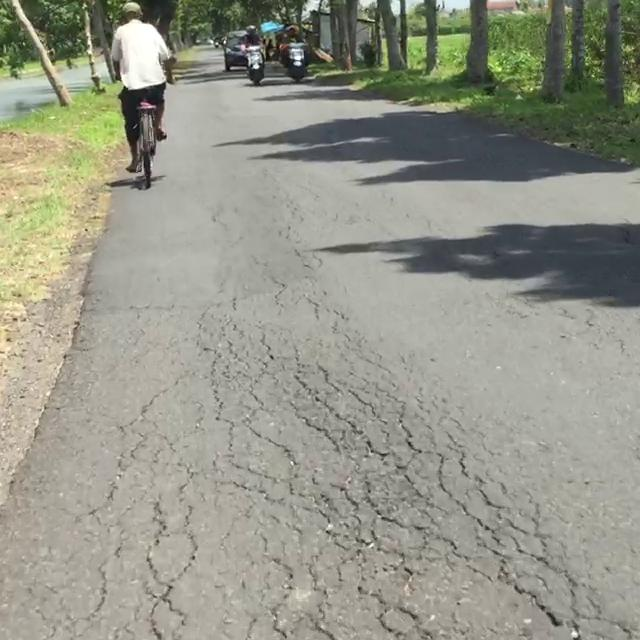retak_kulit_buaya: (102, 302, 525, 640)
